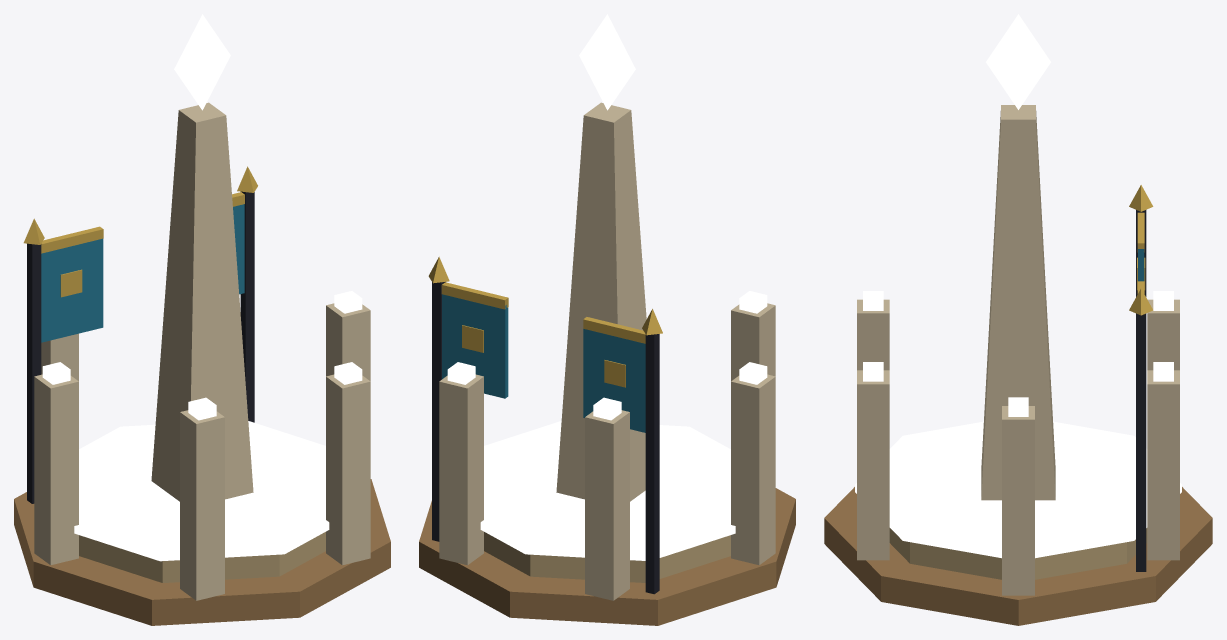
Rendered from hero_forge_t3.glb.
3 renders of one model, left to right at view 1: azimuth 30°, elevation 25°; view 2: azimuth 150°, elevation 25°; view 3: azimuth 270°, elevation 25°, orthographic.
Visible parts, largest first — view 1: body, glow; view 2: body, glow; view 3: body, glow.
Boxes of the visible parts, x1,y1,x2,y2 form: body: [14, 102, 390, 625]; glow: [42, 14, 362, 561]; body: [419, 102, 795, 625]; glow: [447, 14, 767, 560]; body: [824, 105, 1212, 625]; glow: [855, 14, 1181, 558].
Bounding box in the file's own units: 1.9 × 2.86 × 1.9.
